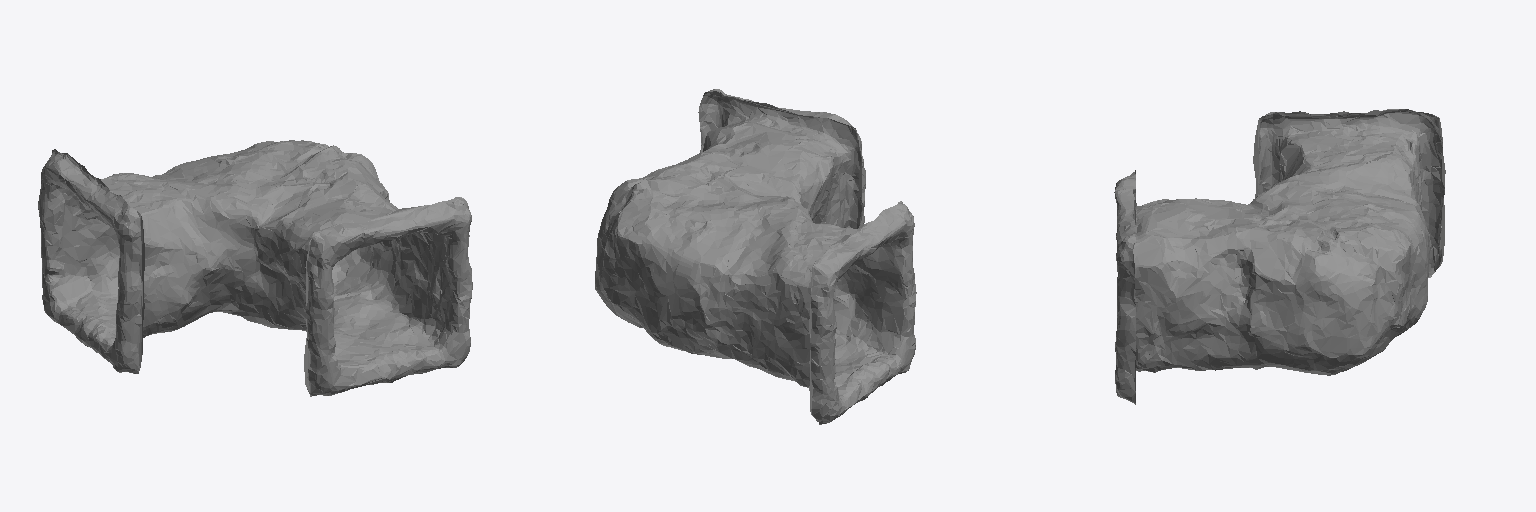
File: zisb_cave_90_bend_1.obj
The picture shows the model from 3 angles: view 1: azimuth 30°, elevation 25°; view 2: azimuth 150°, elevation 25°; view 3: azimuth 270°, elevation 25°; orthographic projection.
Visible parts, largest first — view 1: defaultobject_defaultobject; view 2: defaultobject_defaultobject; view 3: defaultobject_defaultobject.
Boxes of the visible parts, box(x1,y1,x2,y2) form: defaultobject_defaultobject: box(38, 140, 472, 396); defaultobject_defaultobject: box(595, 89, 916, 424); defaultobject_defaultobject: box(1114, 109, 1445, 404).
Size of the model in its own units: 6.96 by 4.02 by 7.